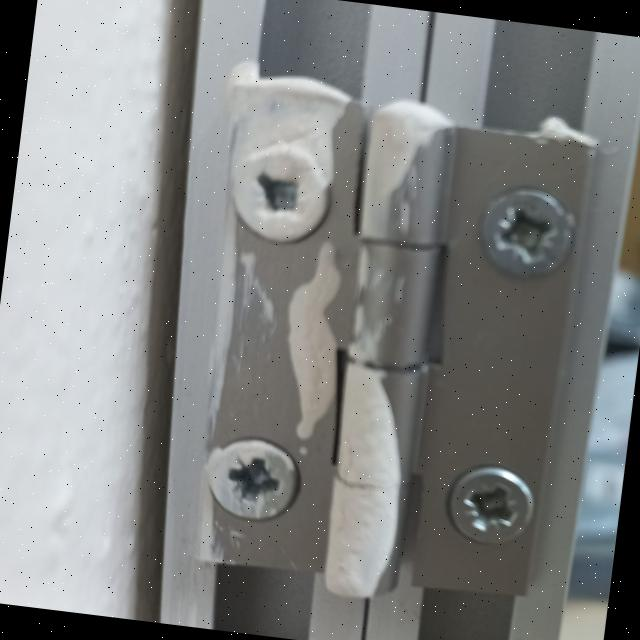Pozidriv: (439, 456, 552, 556), (474, 178, 577, 285), (200, 441, 304, 524)
